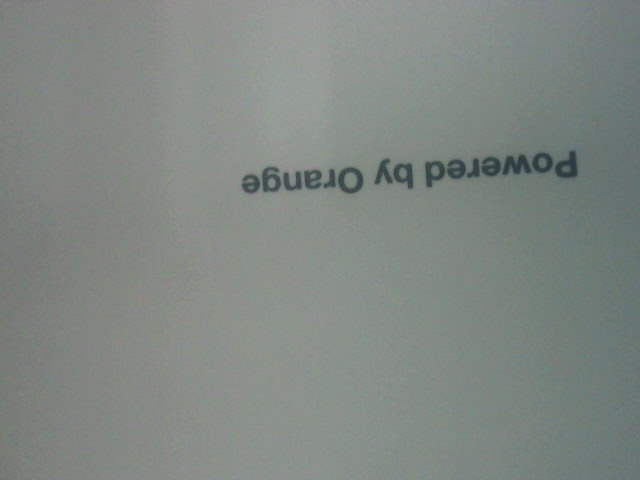AS_PowerByOrange: (235, 150, 584, 196)
